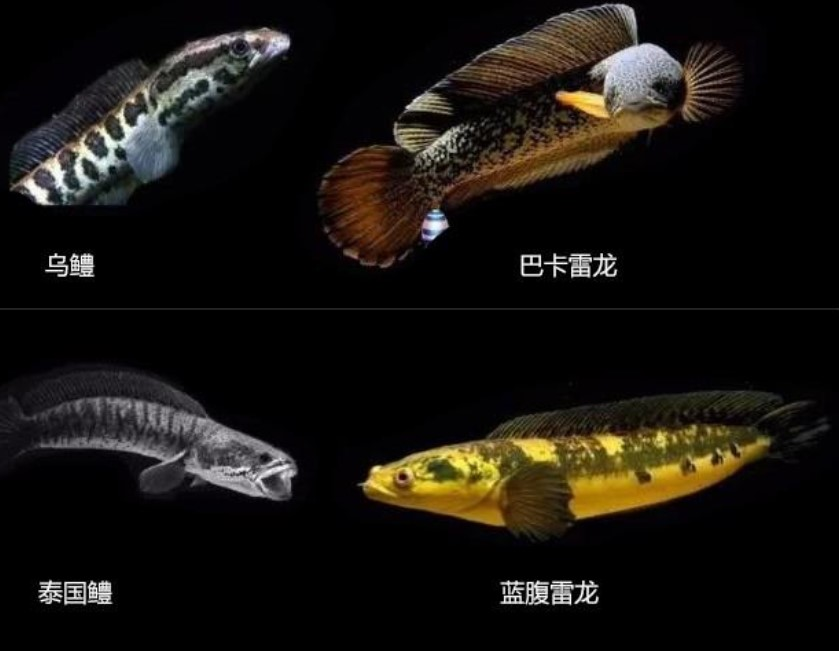Fish: (317, 0, 747, 284), (357, 375, 828, 558), (4, 18, 314, 228), (3, 362, 312, 537)
